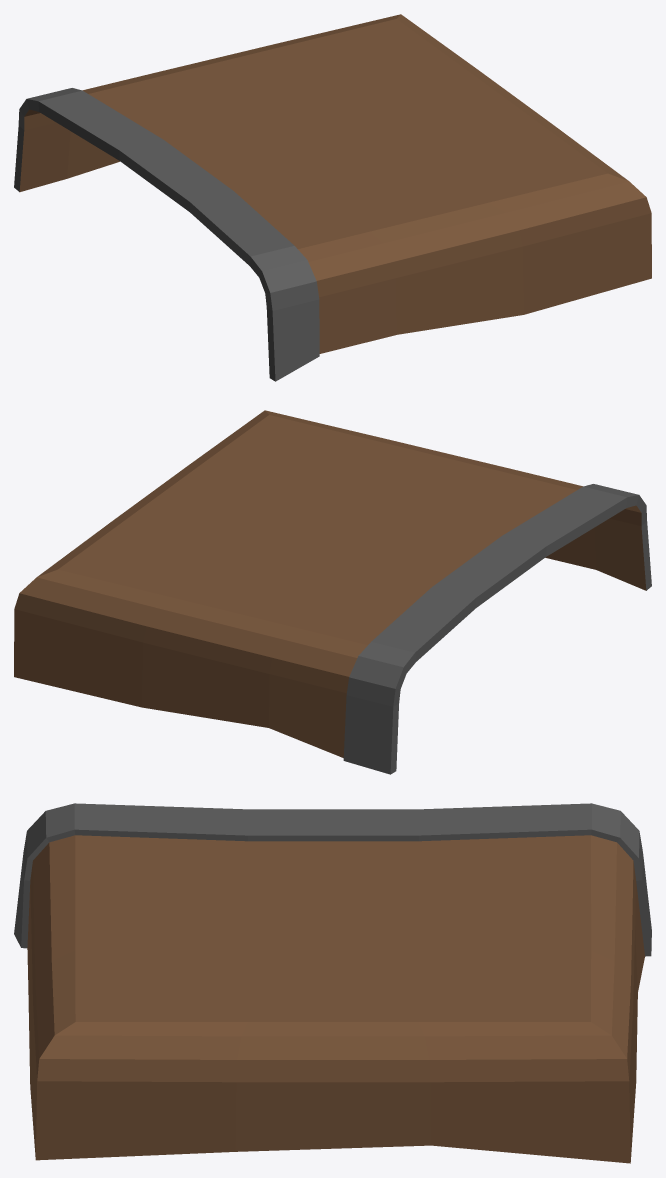
File: Bedroom_Blanket.fbx
3 renders of one model, top to bottom at view 1: azimuth 30°, elevation 25°; view 2: azimuth 150°, elevation 25°; view 3: azimuth 270°, elevation 25°, orthographic. The views are drawn at different scales.
Visible parts, largest first — view 1: Bedroom_Blanket; view 2: Bedroom_Blanket; view 3: Bedroom_Blanket.
Part boxes in pixels (box(x1,y1,x2,y2)): Bedroom_Blanket: box(14, 14, 651, 381); Bedroom_Blanket: box(14, 410, 651, 774); Bedroom_Blanket: box(14, 803, 651, 1163).
Bounding box in the file's own units: 249 × 65.97 × 290.
